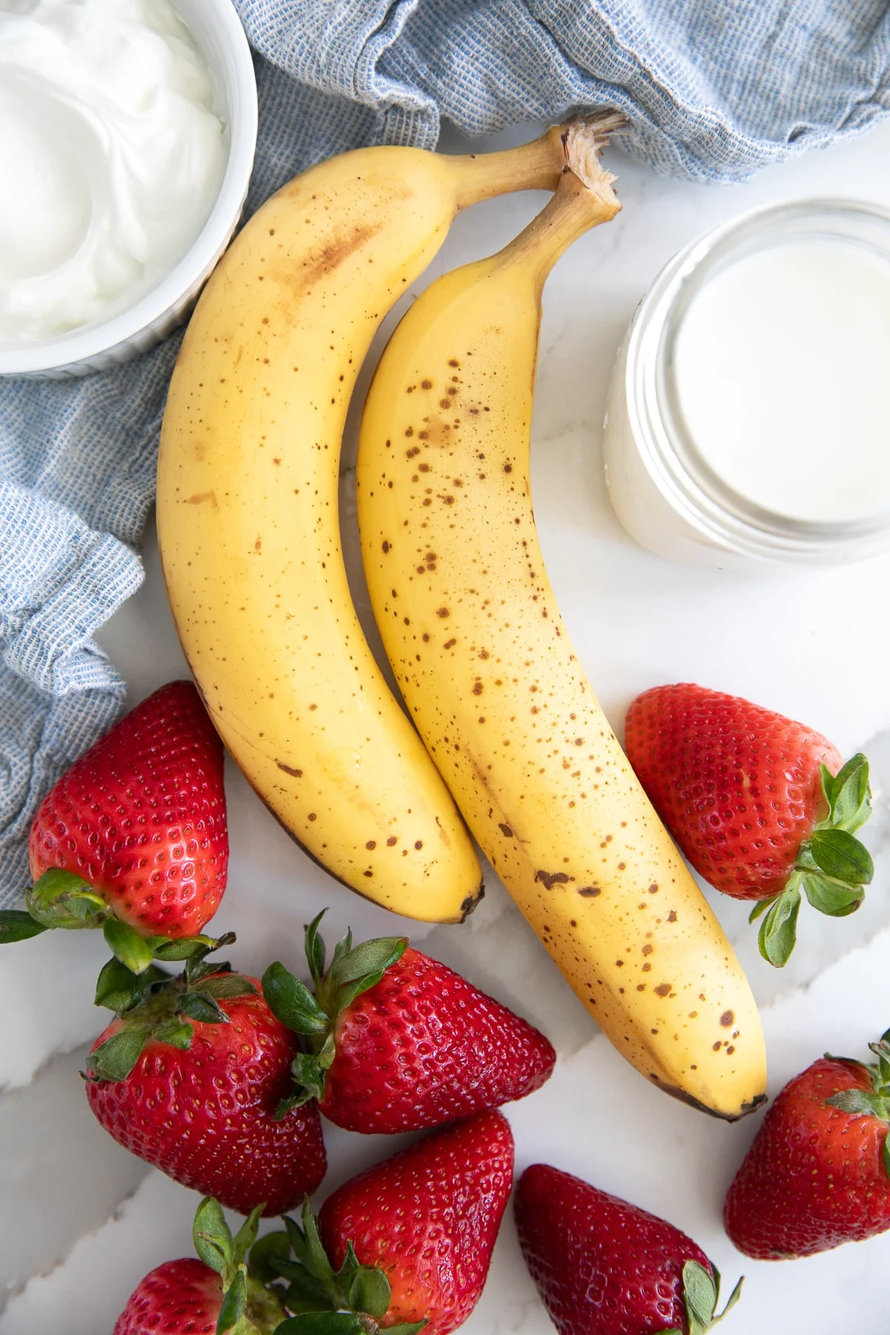banana: (142, 108, 793, 1121)
